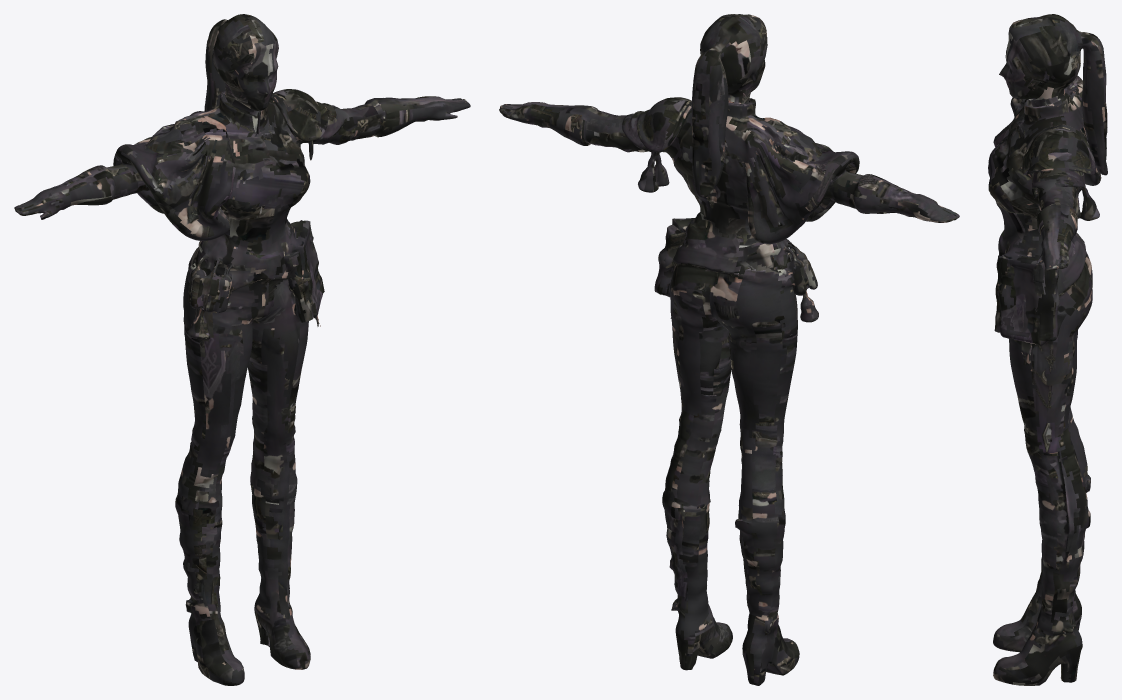
The model's file is sorceress_tripo.fbx.
The picture shows the model from 3 angles, left to right: view 1: azimuth 30°, elevation 25°; view 2: azimuth 150°, elevation 25°; view 3: azimuth 270°, elevation 25°; orthographic projection.
Parts seen in each view (by area): view 1: tripo_node_cb597fde; view 2: tripo_node_cb597fde; view 3: tripo_node_cb597fde.
Boxes of the visible parts, left/top/right/bottom form: tripo_node_cb597fde: left=14, top=14, right=470, bottom=685; tripo_node_cb597fde: left=499, top=14, right=959, bottom=685; tripo_node_cb597fde: left=988, top=14, right=1107, bottom=685.
Bounding box in the file's own units: 0.7327 × 0.998 × 0.1674.
